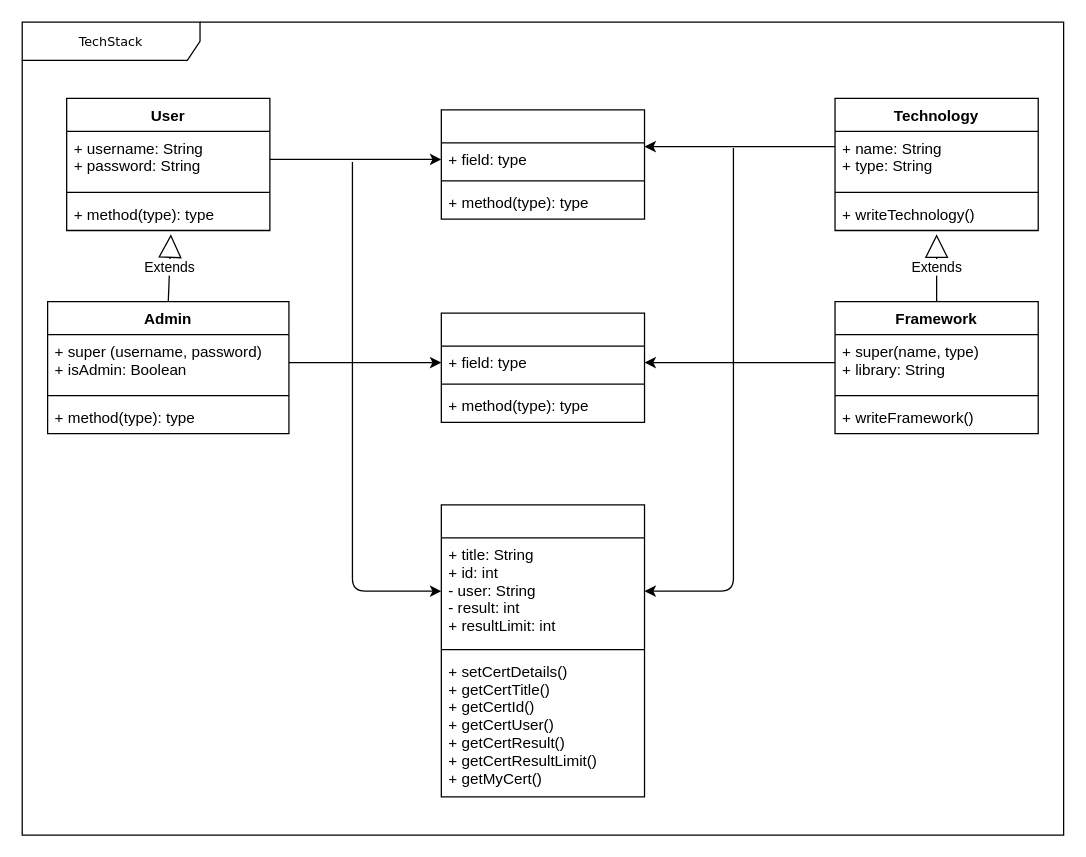
Image size: 1086x857. Some labels were removed from this diagram. The shapes that lost their labels are listed below. From the top down, each one's box as (x1, y1, x2, y2) in pixels, then its label:
(440, 109, 645, 219): LearningGuide
(440, 312, 645, 422): Quiz
(440, 504, 645, 797): Certification
